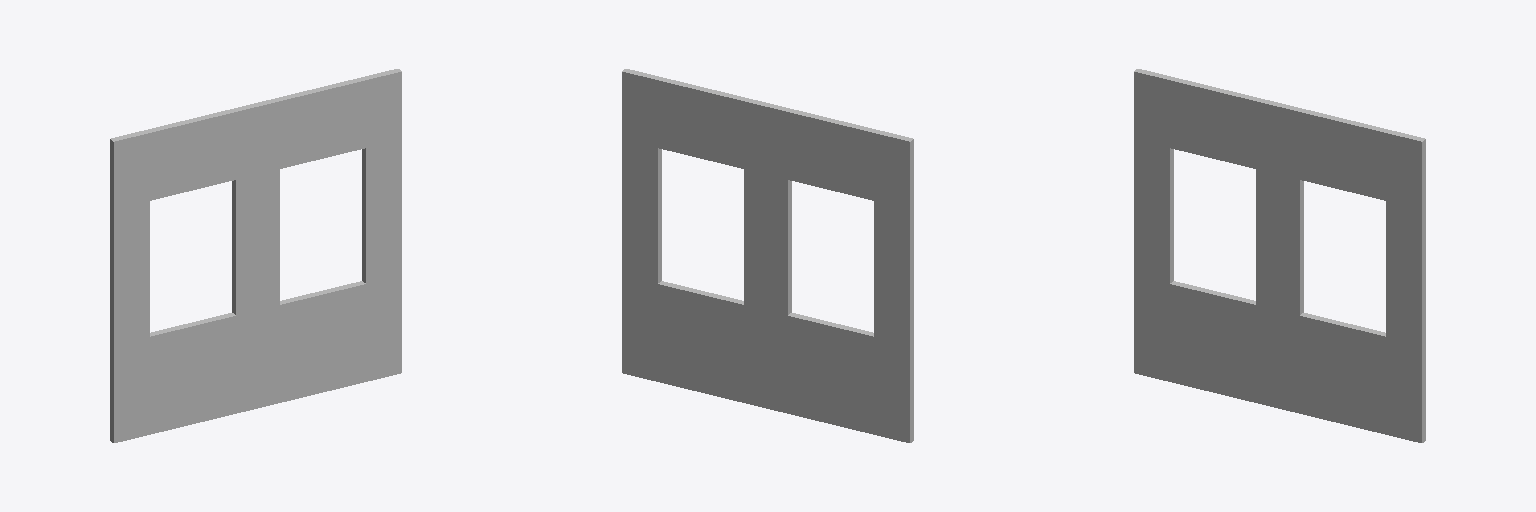
The model's file is wall with windows.obj.
3 views of the same model, side by side, from view 1: azimuth 30°, elevation 25°; view 2: azimuth 150°, elevation 25°; view 3: azimuth 330°, elevation 25° (orthographic).
Visible parts, largest first — view 1: object 1; view 2: object 1; view 3: object 1.
Part boxes in pixels (x1,y1,x2,y2): object 1: (110,69,401,442); object 1: (622,69,913,442); object 1: (1134,69,1425,442).
Size of the model in its own units: 4 by 4 by 0.1.